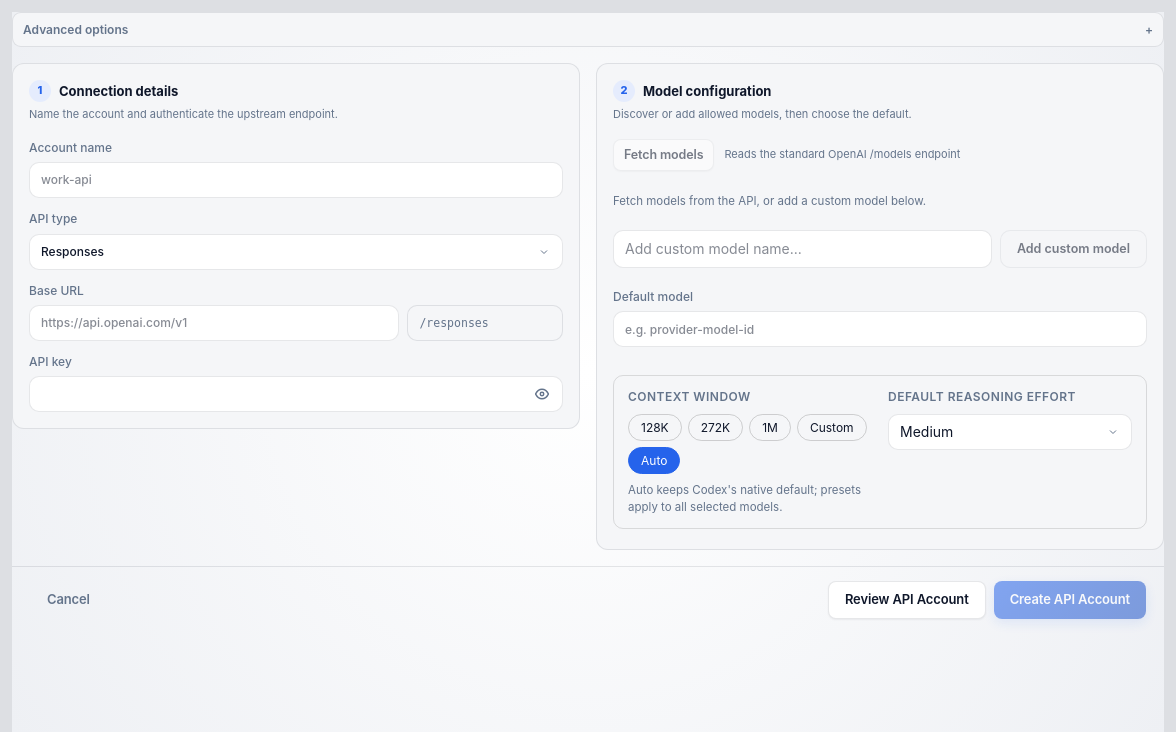
Test: ApiAccountFlow › disables unavailable Provider reuse and explains the empty state
The width and height of the screenshot is (1176, 732).
Click the button "Advanced options +".
click(76, 30)  # box [12, 12, 1164, 47]
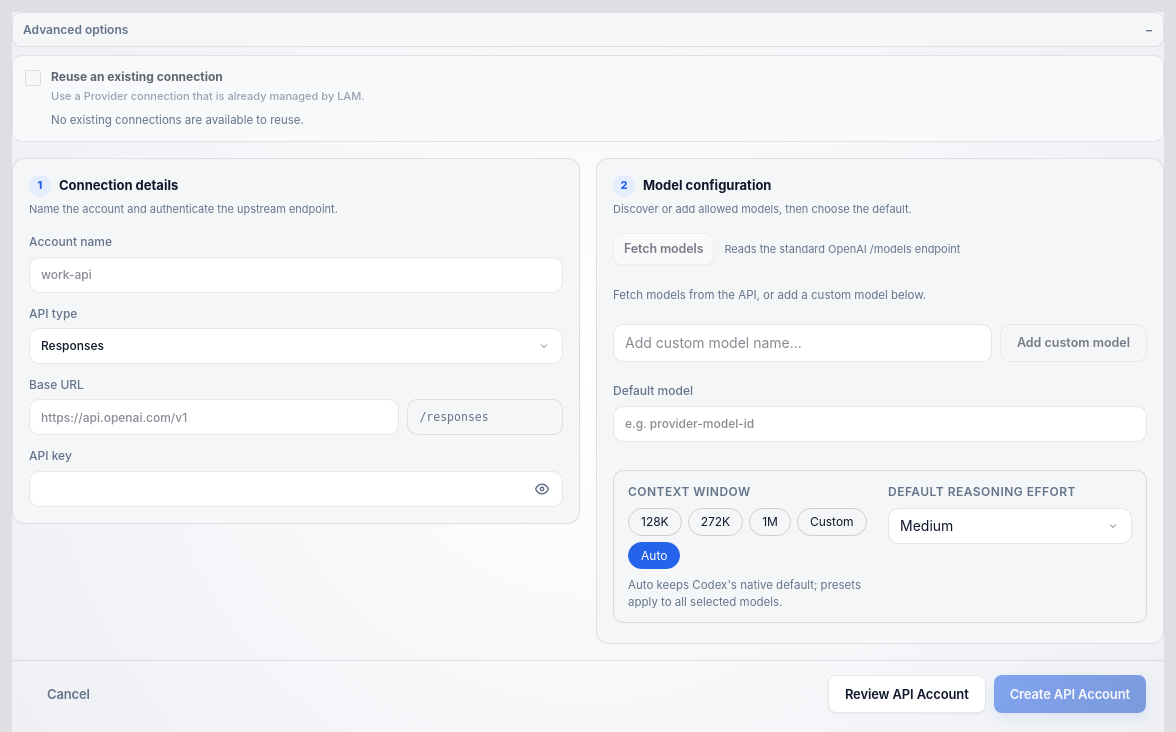
Result: the checkbox named "Reuse existing Provider" is disabled at [25, 70, 41, 86]
Result: the text "No existing connections are available to reuse." is shown at [51, 113, 304, 127]
